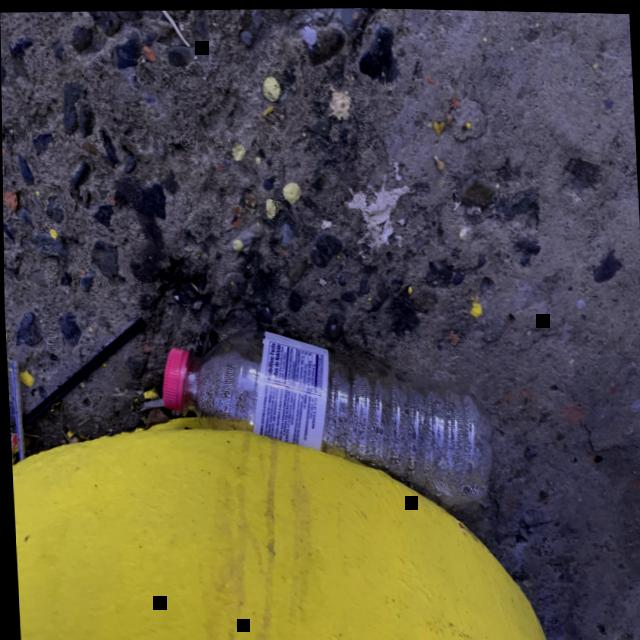Clear plastic bottle: (161, 327, 491, 502)
Plastic bottle cap: (161, 345, 183, 409)
Plastic straw: (22, 315, 145, 427), (8, 357, 24, 459)
